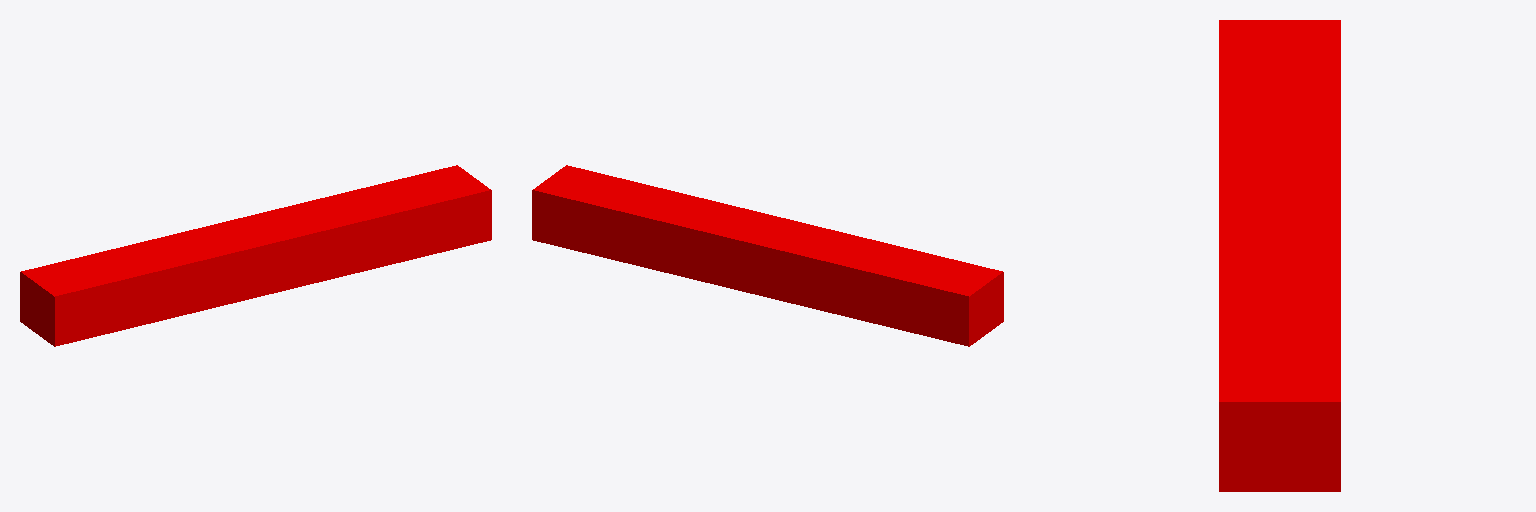
robot.urdf — wall4:
<?xml version="1.0"?>
<robot name="wall4">
	<link name="base">
	<inertial>
        	 <origin xyz="0 0 0" rpy="0 0 0"/>
        	 <mass value="5"/>
        	 <inertia ixx="0.000683333"  ixy="0"  ixz="0" iyy="0.000683333" iyz="0" izz="0.000683333" />
       </inertial>
		<visual>
			<origin xyz="0 0 0" rpy="0 0 0" />
			<geometry>
				<box size="0.2 0.027 0.022" />
			</geometry>
			<material>
				<color rgba="1 0 0 1" />
			</material>
		</visual>
<collision>
            <origin xyz="0 0 0" rpy="0 0 0" />
            <geometry>
				<box size="0.2 0.03 0.025" />
            </geometry>
        </collision>

	</link>
</robot>

--- What the picture shows (computed from the rendered views, not written in the file) ---
The picture shows the robot from 3 angles, left to right: view 1: azimuth 30°, elevation 25°; view 2: azimuth 150°, elevation 25°; view 3: azimuth 270°, elevation 25°; orthographic projection.
Model wall4 with 1 links and 0 joints (none), rooted at base, posed all joints at 0.
Visible links, largest first — view 1: base; view 2: base; view 3: base.
Boxes of the visible links, x1,y1,x2,y2 form: base: (20,165,491,346); base: (532,165,1003,346); base: (1219,20,1340,491).
Size in the robot's own frame: 0.2 by 0.027 by 0.022 metres.
Geometry: primitives only (box / cylinder / sphere), no mesh files.
